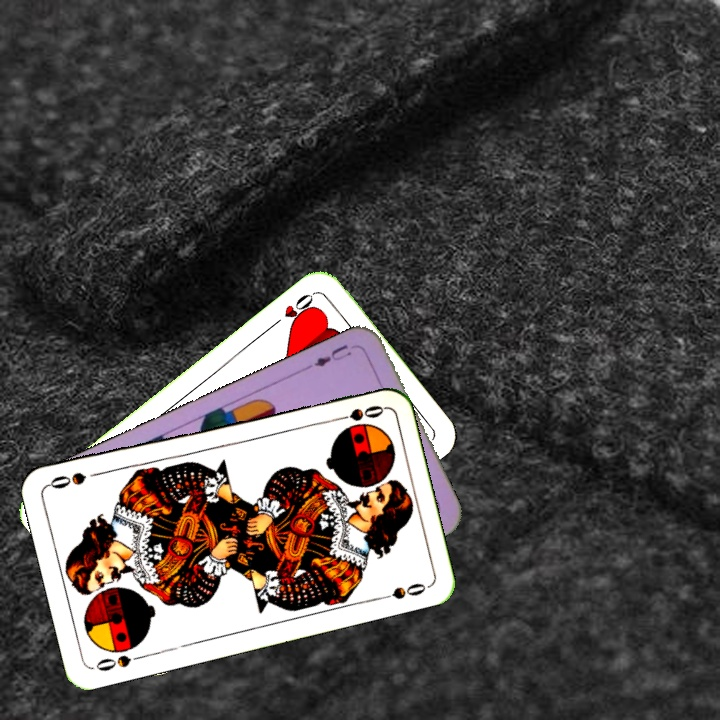EU: (303, 340, 355, 372)
HO: (267, 288, 319, 330)
SO: (328, 401, 386, 425), (90, 650, 148, 674)
